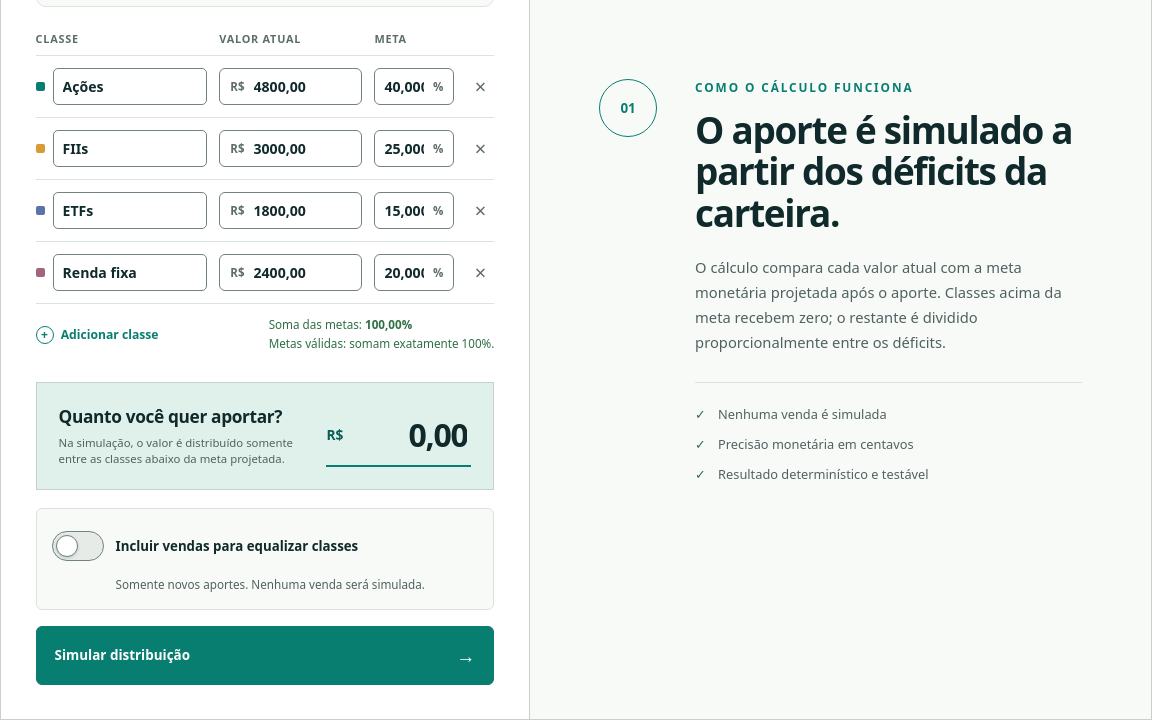
it: ContributionSimulator › accepts zero new cash and identifies classes without movement
(page scrolled)
Click the switch labelled "Incluir vendas para equalizar classes": (205, 546) top-left (52, 531), bottom-right (358, 561)
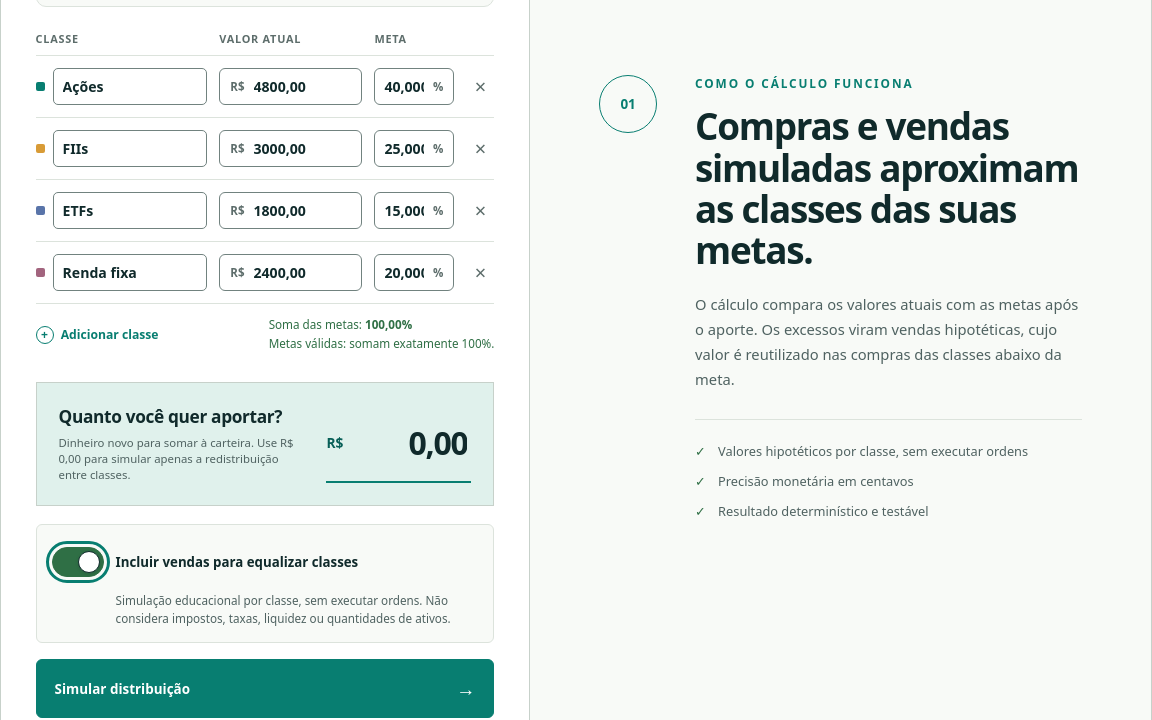
Click the button "Simular distribuição →": (122, 689) top-left (36, 659), bottom-right (494, 718)
(page scrolled)
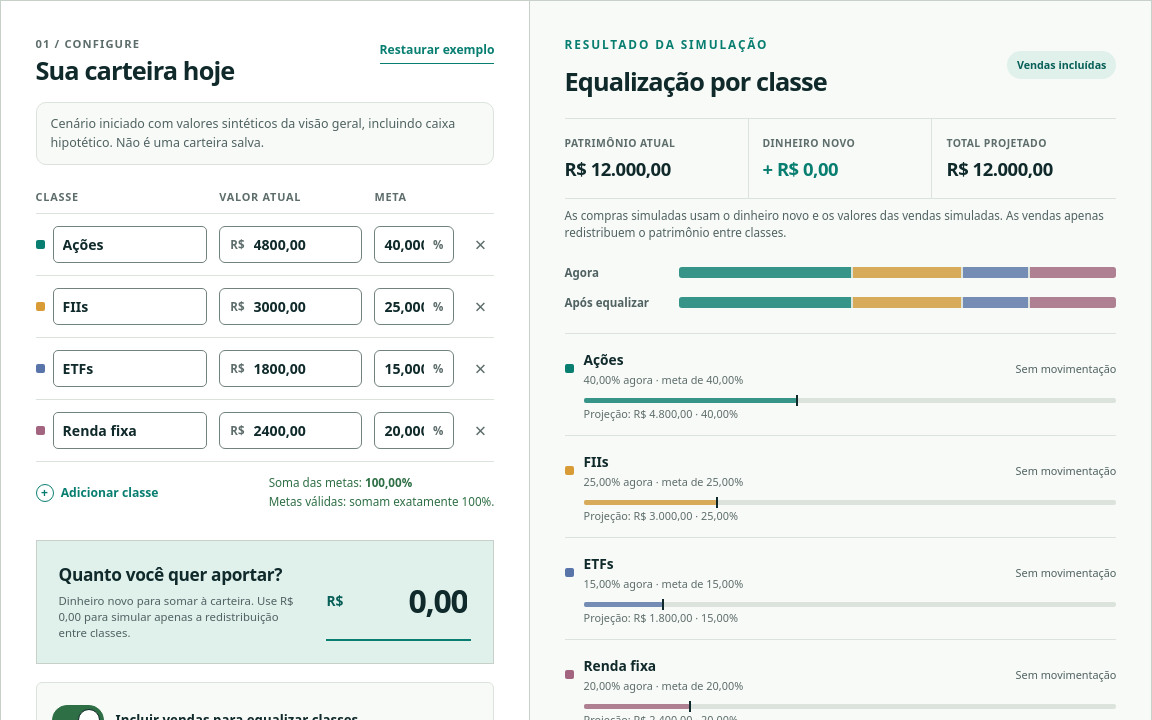
Check: the heading "Equalização por classe" is shown, box top-left (564, 66), bottom-right (827, 95)
Check: the text "Sem movimentação" is shown 4 times, box top-left (1016, 361), bottom-right (1116, 376); top-left (1016, 463), bottom-right (1116, 478); top-left (1016, 565), bottom-right (1116, 580); top-left (1016, 667), bottom-right (1116, 682)
